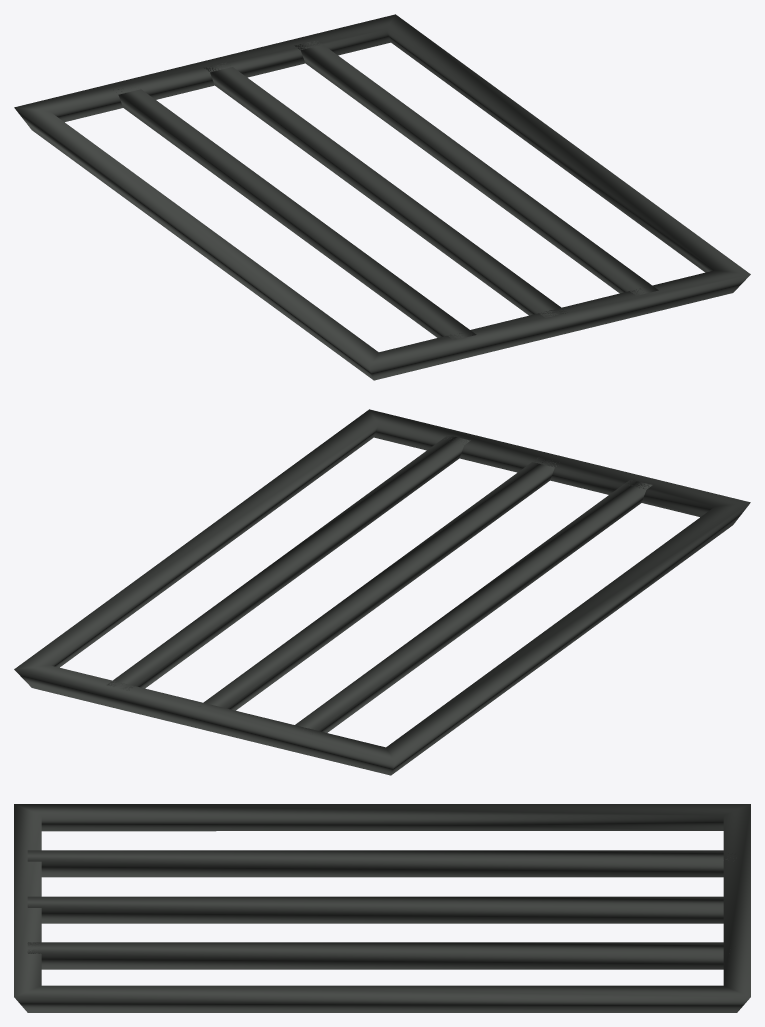
File: PH_INST_SWORDLIGHT_CELLDOOR.obj
The picture shows the model from 3 angles, top to bottom: view 1: azimuth 30°, elevation 25°; view 2: azimuth 150°, elevation 25°; view 3: azimuth 270°, elevation 25°; orthographic projection. The views are drawn at different scales.
Visible parts, largest first — view 1: ellDoor_Lod1_01; view 2: ellDoor_Lod1_01; view 3: ellDoor_Lod1_01.
Part boxes in pixels (bbox=[...]): ellDoor_Lod1_01: bbox=[14, 14, 750, 380]; ellDoor_Lod1_01: bbox=[14, 409, 750, 775]; ellDoor_Lod1_01: bbox=[14, 804, 750, 1012].
Size of the model in its own units: 146 by 7.57 by 236.
